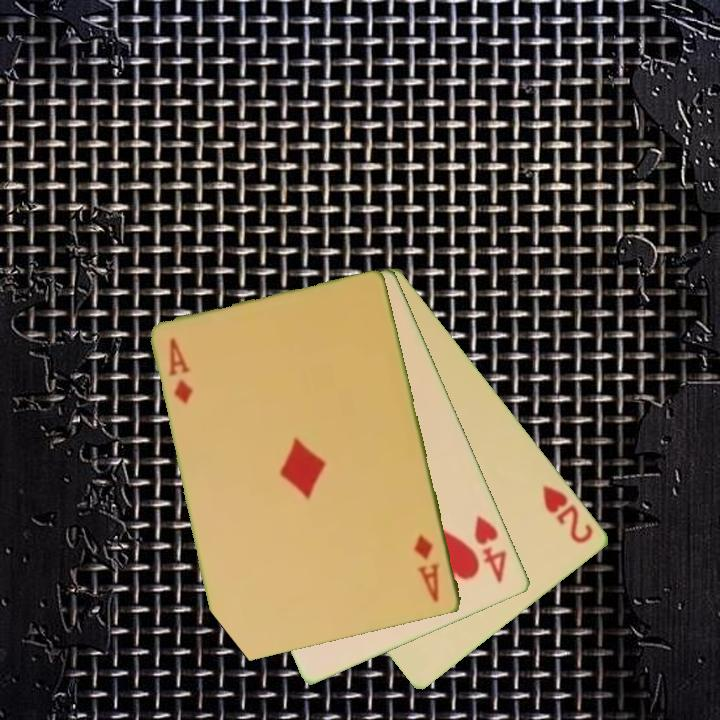2h: (539, 481, 597, 547)
4h: (471, 511, 511, 586)
Ad: (411, 530, 444, 605), (165, 334, 197, 408)
